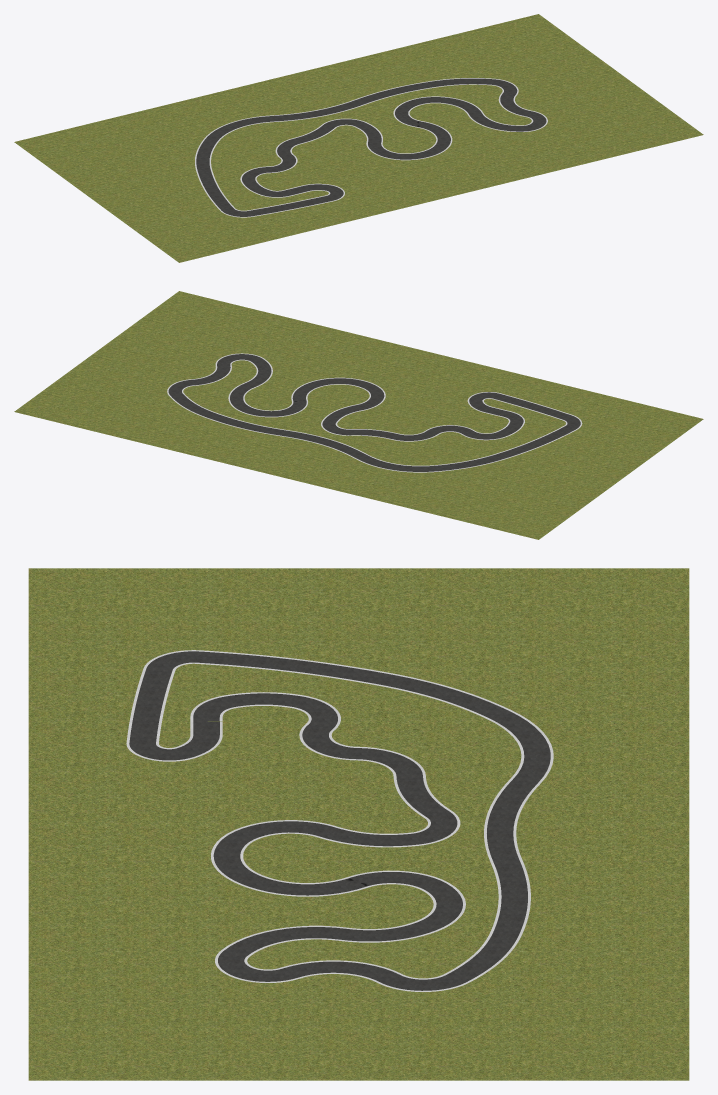
Rendered from track11.dae.
The picture shows the model from 3 angles, top to bottom: view 1: azimuth 30°, elevation 25°; view 2: azimuth 150°, elevation 25°; view 3: azimuth 270°, elevation 25°; orthographic projection. The views are drawn at different scales.
Visible parts, largest first — view 1: field, road, outerline, innerline; view 2: field, road, outerline, innerline; view 3: field, road, outerline, innerline.
Part boxes in pixels (bbox=[...]): field: bbox=[14, 14, 703, 262]; road: bbox=[196, 78, 546, 216]; outerline: bbox=[195, 78, 547, 217]; innerline: bbox=[209, 84, 533, 211]; field: bbox=[14, 291, 703, 539]; road: bbox=[168, 354, 580, 471]; outerline: bbox=[167, 353, 582, 472]; innerline: bbox=[182, 359, 567, 466]; field: bbox=[28, 568, 689, 1080]; road: bbox=[129, 651, 550, 990]; outerline: bbox=[126, 650, 553, 991]; innerline: bbox=[156, 662, 524, 979].
Size of the model in its own units: 74.83 by 40.8 by 0.01.
Materials: 3 (3 with a texture image).
